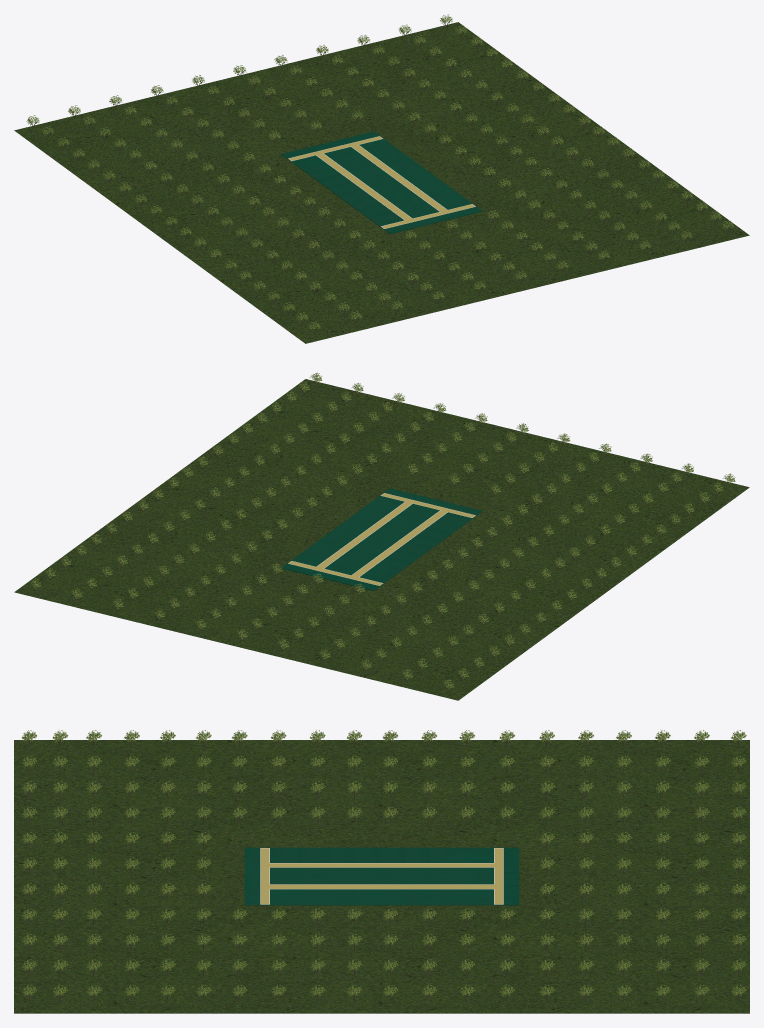
The picture shows the model from 3 angles, top to bottom: view 1: azimuth 30°, elevation 25°; view 2: azimuth 150°, elevation 25°; view 3: azimuth 270°, elevation 25°; orthographic projection. The views are drawn at different scales.
Visible parts, largest first — view 1: Plane001, Rectangle136, 对象010; view 2: Plane001, Rectangle136, 对象010; view 3: Plane001, Rectangle136, 对象010.
Boxes of the visible parts, bbox=[...] form: Plane001: bbox=[14, 22, 749, 343]; Rectangle136: bbox=[281, 131, 482, 233]; 对象010: bbox=[288, 136, 475, 228]; Plane001: bbox=[14, 379, 749, 700]; Rectangle136: bbox=[281, 488, 482, 590]; 对象010: bbox=[288, 493, 475, 585]; Plane001: bbox=[14, 740, 749, 1013]; Rectangle136: bbox=[244, 847, 519, 905]; 对象010: bbox=[260, 848, 503, 904].
Bounding box in the file's own units: 1075 × 33.39 × 1222.
6 materials, 4 textured.
